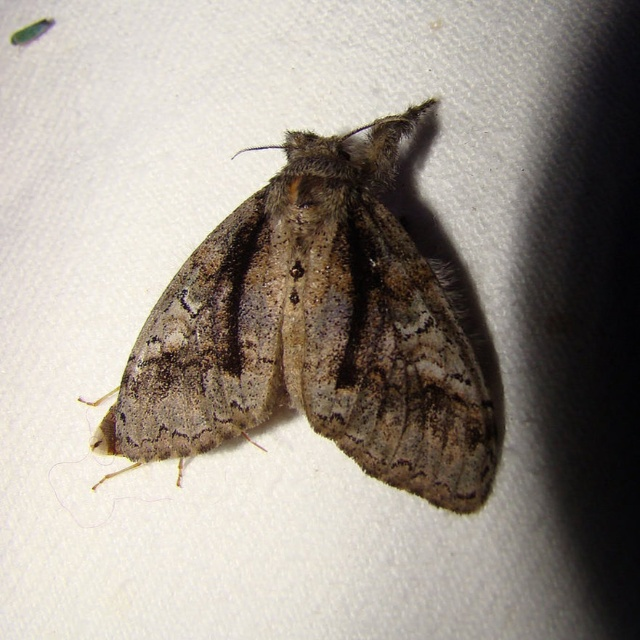Moths and butterflies: (63, 98, 524, 516)
